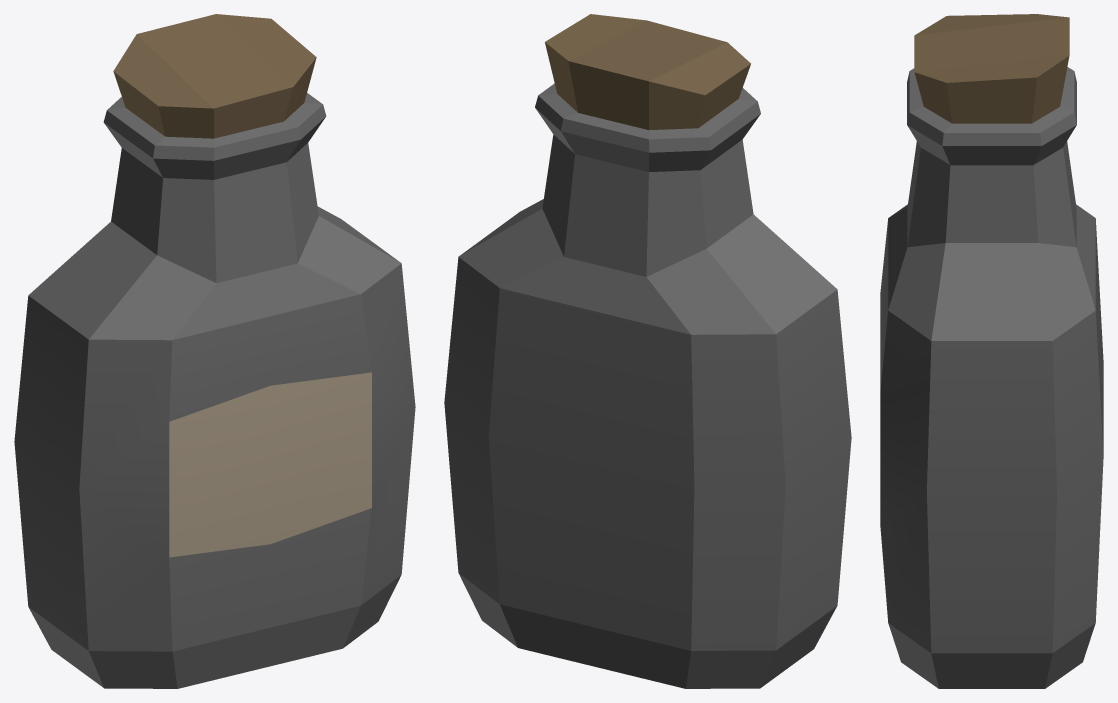
Rendered from SM_Item_Potion_05.glb.
3 views of the same model, side by side, from view 1: azimuth 30°, elevation 25°; view 2: azimuth 150°, elevation 25°; view 3: azimuth 270°, elevation 25° (orthographic).
Visible parts, largest first — view 1: SM_Item_Potion_05; view 2: SM_Item_Potion_05; view 3: SM_Item_Potion_05.
Part boxes in pixels (<box>): SM_Item_Potion_05: <box>14,14,415,688</box>; SM_Item_Potion_05: <box>444,14,851,688</box>; SM_Item_Potion_05: <box>880,14,1103,688</box>.
Size of the model in its own units: 0.00195 by 0.00323 by 0.00112.
Materials: 1 (1 with a texture image).
